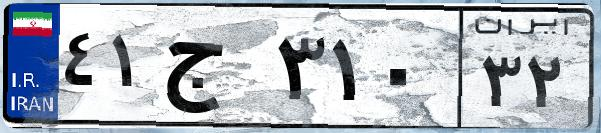0: (385, 28, 445, 110)
1: (330, 28, 385, 110), (110, 28, 158, 98)
2: (525, 38, 570, 115)
3: (270, 28, 330, 110), (475, 38, 525, 113)
4: (57, 26, 110, 100)
ج: (158, 20, 270, 120)
